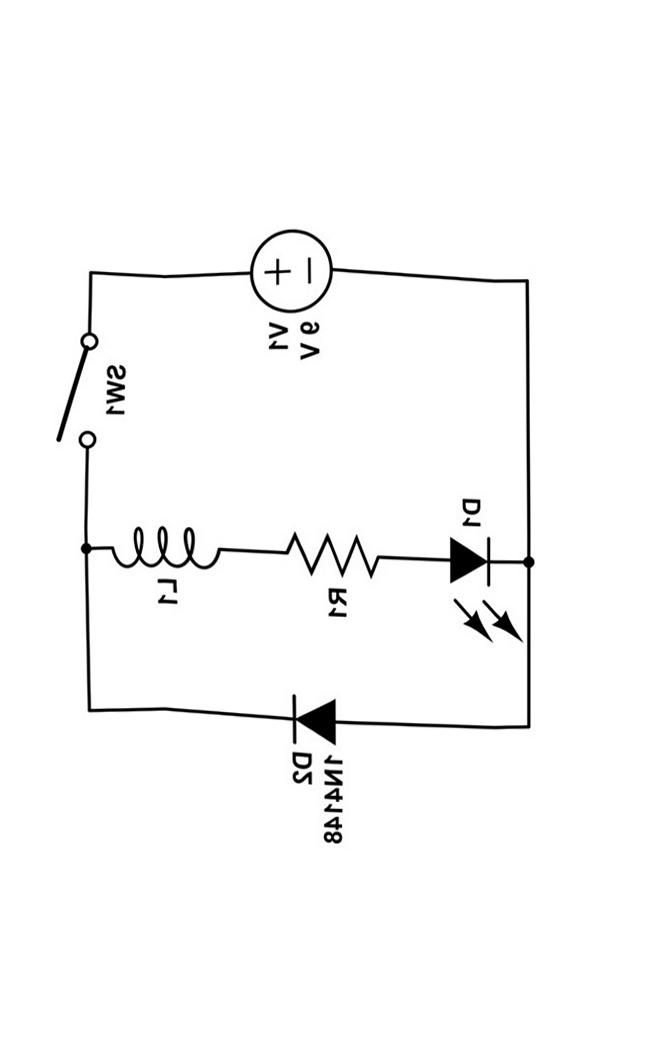Battery: (217, 213, 366, 323)
